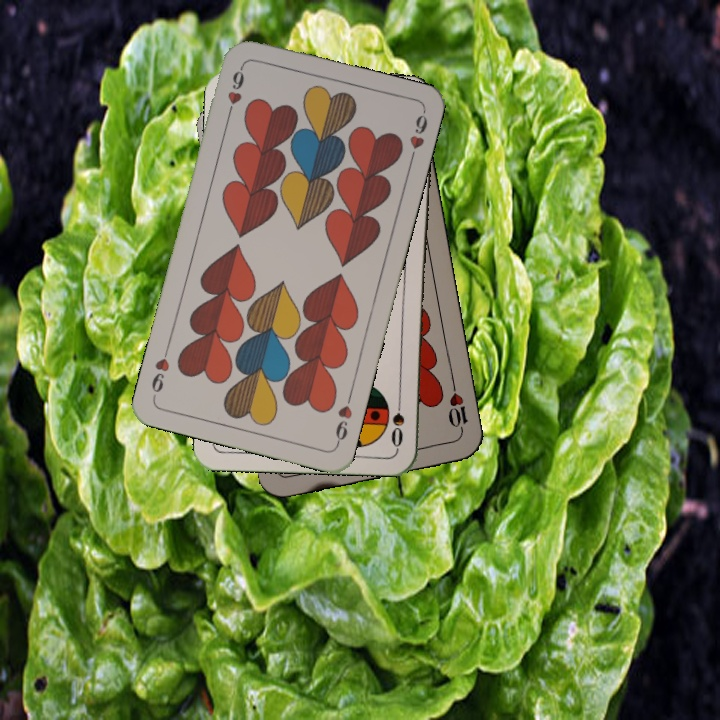H10: (444, 380, 471, 439)
H9: (331, 390, 355, 448), (223, 62, 247, 120)
SO: (387, 391, 407, 450)
